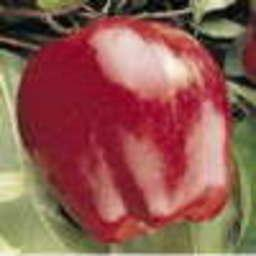apple: (11, 15, 238, 248)
